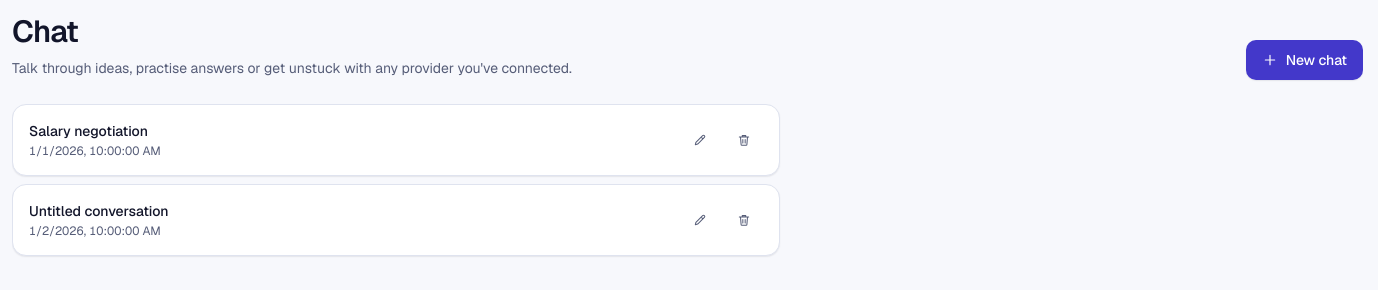
ChatListView rename › shows the API error inline and keeps the editor open on failure
Click the button named "Rename conversation Salary negotiation". click: (700, 140)
box: [681, 124, 719, 156]
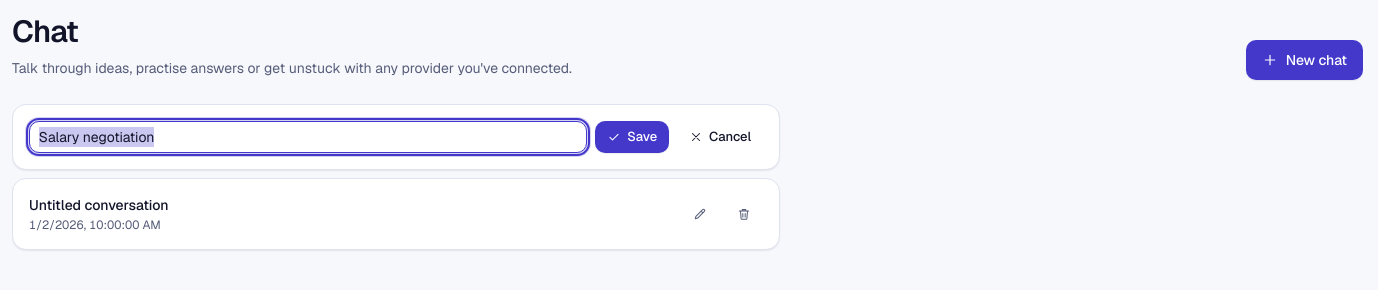
Type "x" into the field named "New title for Salary negotiation". click: (308, 137)
box: [29, 121, 587, 153]
Then press Enter
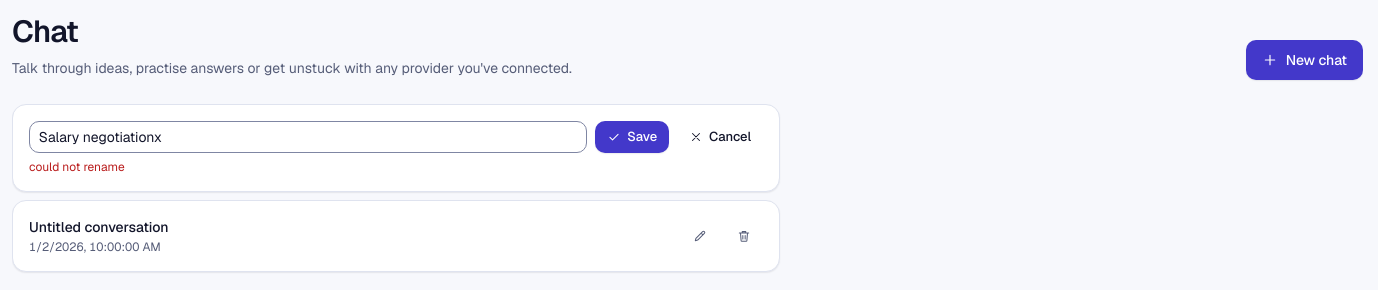
Expected: the field named "New title for Salary negotiation" is shown, [29, 121, 587, 153]
Expected: the message reads "could not rename", [29, 159, 125, 175]
